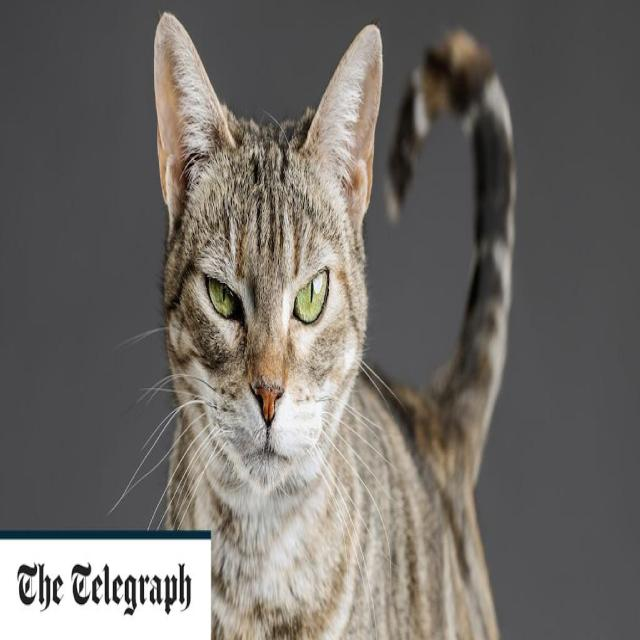Cat: (147, 3, 391, 508)
